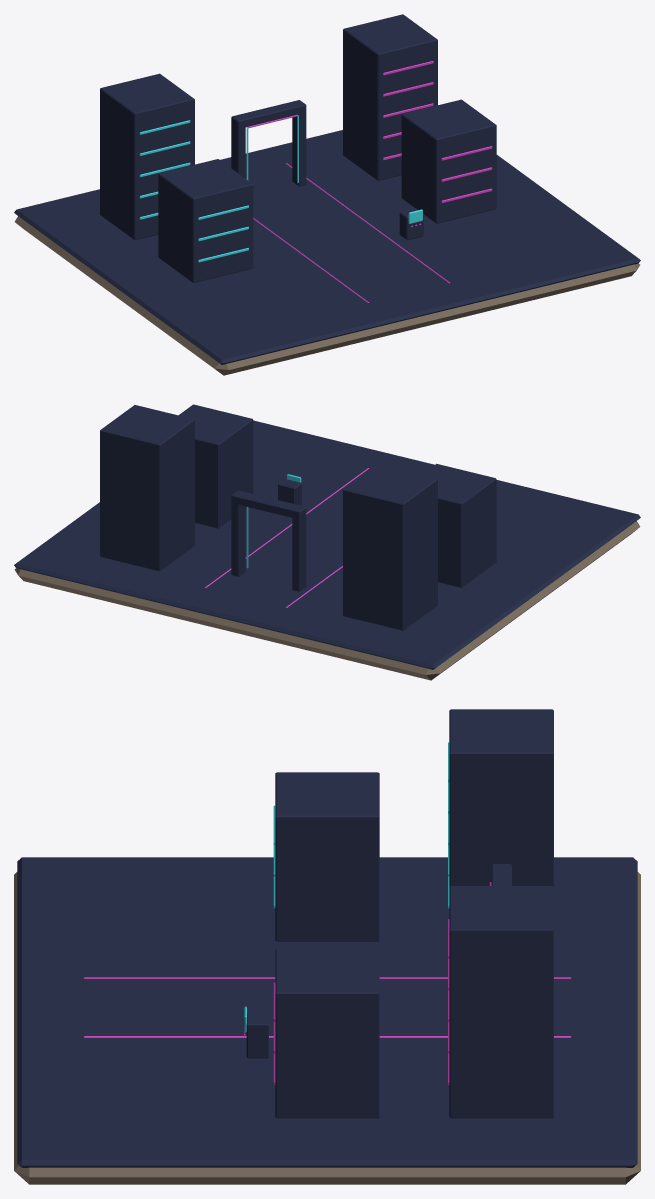
Rendered from world-cyber.glb.
3 renders of one model, top to bottom at view 1: azimuth 30°, elevation 25°; view 2: azimuth 150°, elevation 25°; view 3: azimuth 270°, elevation 25°, orthographic. The views are drawn at different scales.
Parts seen in each view (by area): view 1: terrain-top, city-tower.003, city-tower.001, city-tower, city-tower.002, terrain-stratum, portal-lintel.001, portal-pillar.003, portal-pillar.002, terminal-base.001; view 2: terrain-top, city-tower.001, city-tower.003, terrain-stratum, city-tower, city-tower.002, portal-pillar.002, portal-pillar.003, portal-lintel.001, terminal-base.001; view 3: terrain-top, city-tower.003, city-tower.001, city-tower, city-tower.002, terrain-stratum, terminal-base.001.
Part boxes in pixels (bbox=[...]): terrain-top: bbox=[14, 130, 640, 364]; city-tower.003: bbox=[343, 14, 437, 180]; city-tower.001: bbox=[100, 73, 194, 240]; city-tower: bbox=[158, 159, 253, 282]; city-tower.002: bbox=[401, 99, 496, 223]; terrain-stratum: bbox=[14, 216, 640, 375]; portal-lintel.001: bbox=[231, 100, 306, 128]; portal-pillar.003: bbox=[292, 110, 306, 186]; portal-pillar.002: bbox=[231, 122, 245, 178]; terminal-base.001: bbox=[399, 208, 423, 240]; terrain-top: bbox=[14, 420, 640, 669]; city-tower.001: bbox=[343, 464, 437, 630]; city-tower.003: bbox=[100, 405, 194, 571]; terrain-stratum: bbox=[14, 521, 640, 680]; city-tower: bbox=[422, 463, 496, 587]; city-tower.002: bbox=[178, 404, 253, 528]; portal-pillar.002: bbox=[292, 513, 306, 591]; portal-pillar.003: bbox=[231, 500, 245, 576]; portal-lintel.001: bbox=[231, 490, 306, 517]; terminal-base.001: bbox=[278, 479, 301, 505]; terrain-top: bbox=[17, 857, 637, 1167]; city-tower.003: bbox=[449, 886, 553, 1118]; city-tower.001: bbox=[449, 709, 553, 886]; city-tower: bbox=[275, 772, 379, 941]; city-tower.002: bbox=[275, 949, 379, 1118]; terrain-stratum: bbox=[14, 872, 640, 1184]; terminal-base.001: bbox=[246, 1012, 268, 1058].
Bounding box in the file's own units: 21 × 6.89 × 18.
